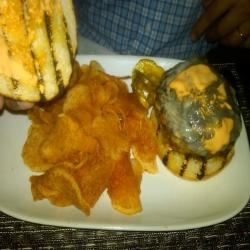burger: (143, 59, 239, 180)
